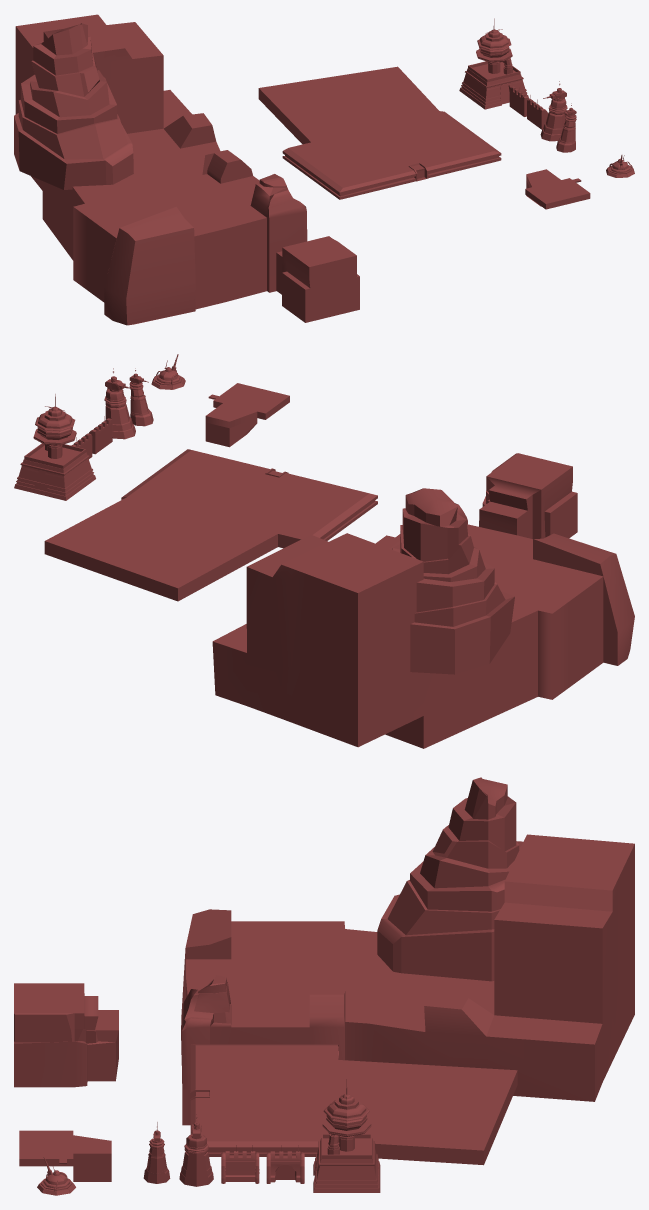
The model's file is background_low.fbx.
The picture shows the model from 3 angles, top to bottom: view 1: azimuth 30°, elevation 25°; view 2: azimuth 150°, elevation 25°; view 3: azimuth 270°, elevation 25°; orthographic projection. The views are drawn at different scales.
Visible parts, largest first — view 1: background_high1; view 2: background_high1; view 3: background_high1.
Part boxes in pixels (<box>): background_high1: <box>14,14,634,325</box>; background_high1: <box>14,354,634,748</box>; background_high1: <box>14,777,634,1195</box>.
Size of the model in its own units: 87.62 by 36.92 by 78.24.
